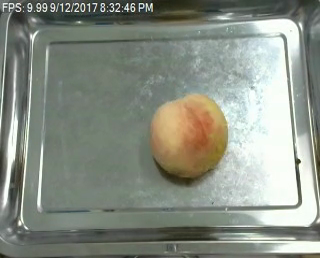Peach: (150, 93, 229, 178)
